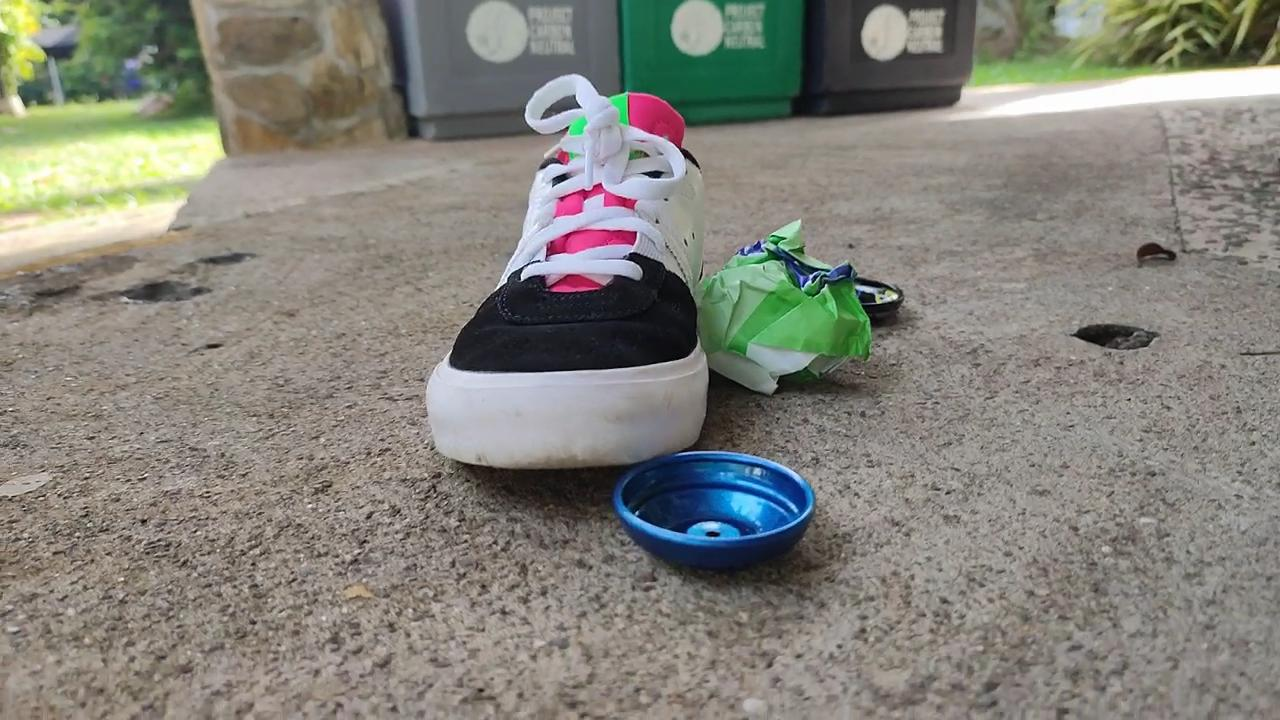Paper: (691, 211, 879, 404)
